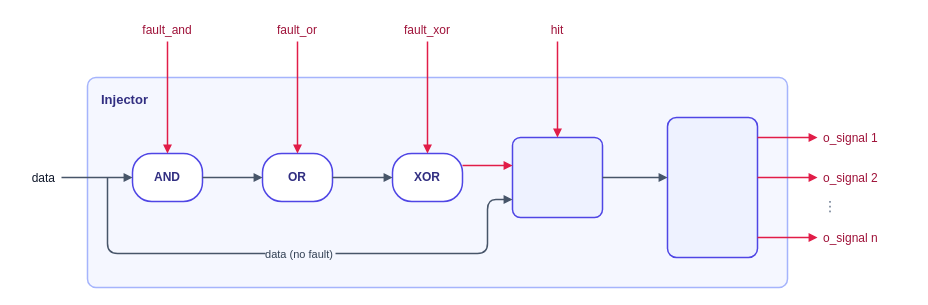
This 928x305 diagram has some shape labels left out. Each missing label, with the box of its shape:
hit ? faulted : data: (511, 136, 603, 218)
Slice: (666, 116, 758, 258)
